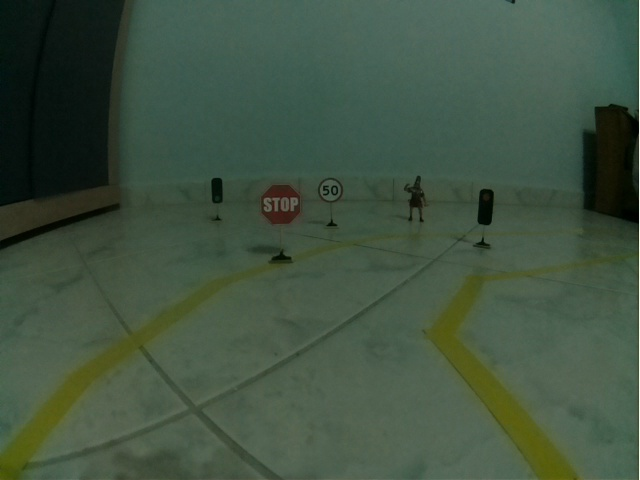Green Traffic Light: (210, 177, 223, 204)
Person: (403, 174, 429, 224)
Red Traffic Light: (477, 188, 494, 227)
Speed Limit 50: (318, 178, 344, 203)
Stop: (259, 183, 302, 225)
